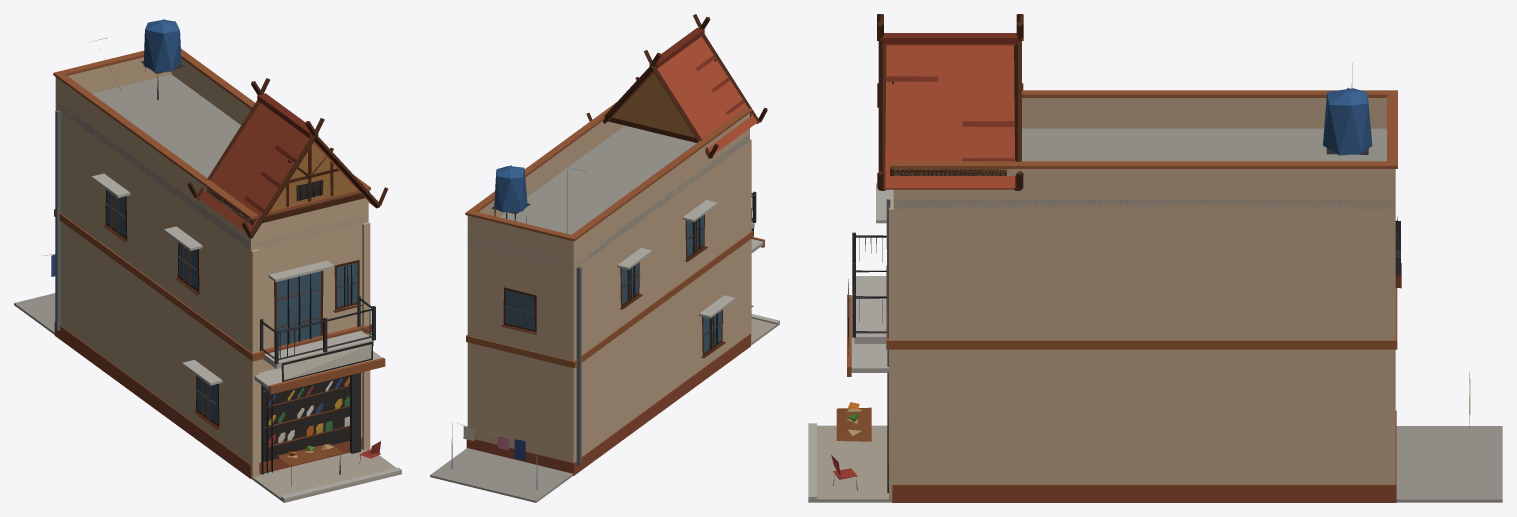
Rendered from bay1_left.glb.
3 renders of one model, left to right at view 1: azimuth 30°, elevation 25°; view 2: azimuth 150°, elevation 25°; view 3: azimuth 270°, elevation 25°, orthographic. The views are drawn at different scales.
Visible parts, largest first — view 1: body, windows; view 2: body, windows; view 3: body.
Part boxes in pixels (box(x1,y1,x2,y2)): body: box(14, 19, 401, 502); windows: box(106, 180, 357, 461); body: box(430, 14, 779, 502); windows: box(505, 215, 721, 353); body: box(808, 14, 1502, 502).
Size of the model in its own units: 4.98 by 11.33 by 15.9.
